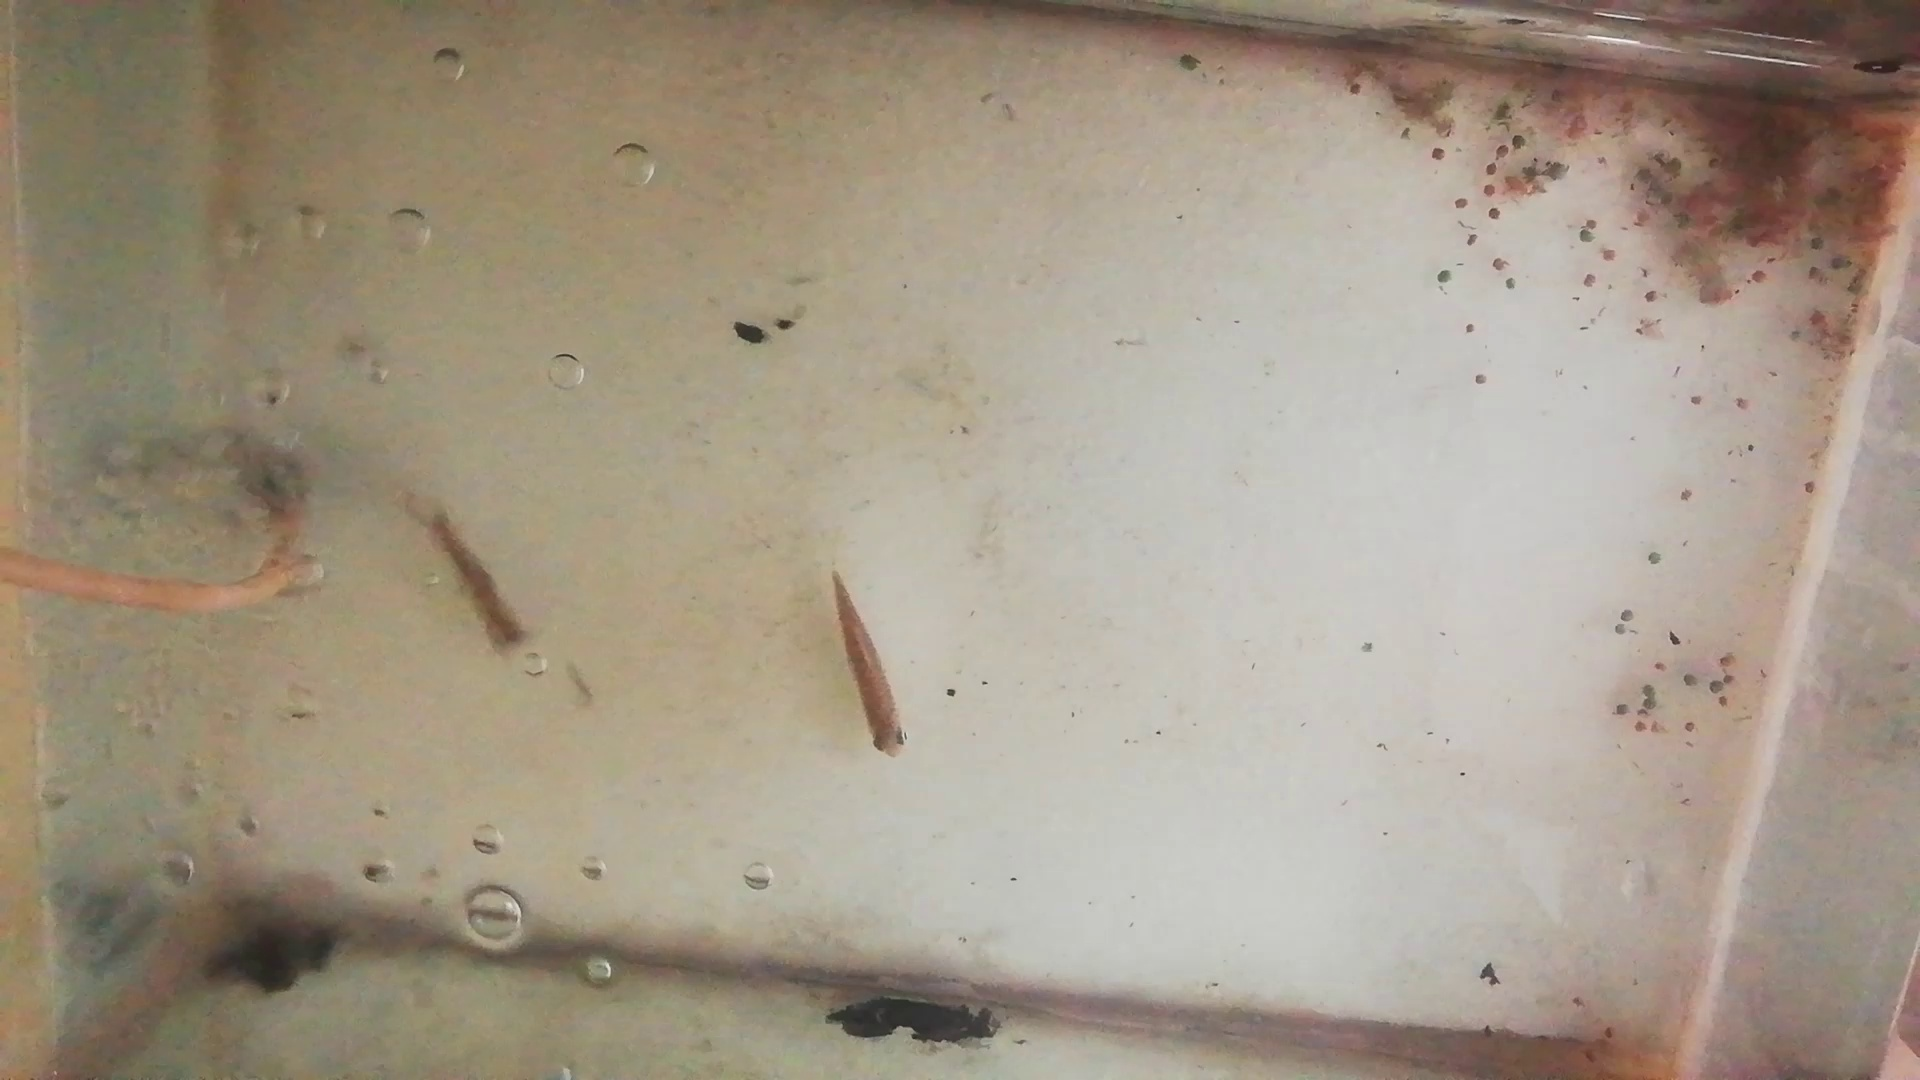fish: (404, 497, 533, 659), (829, 572, 916, 762)
